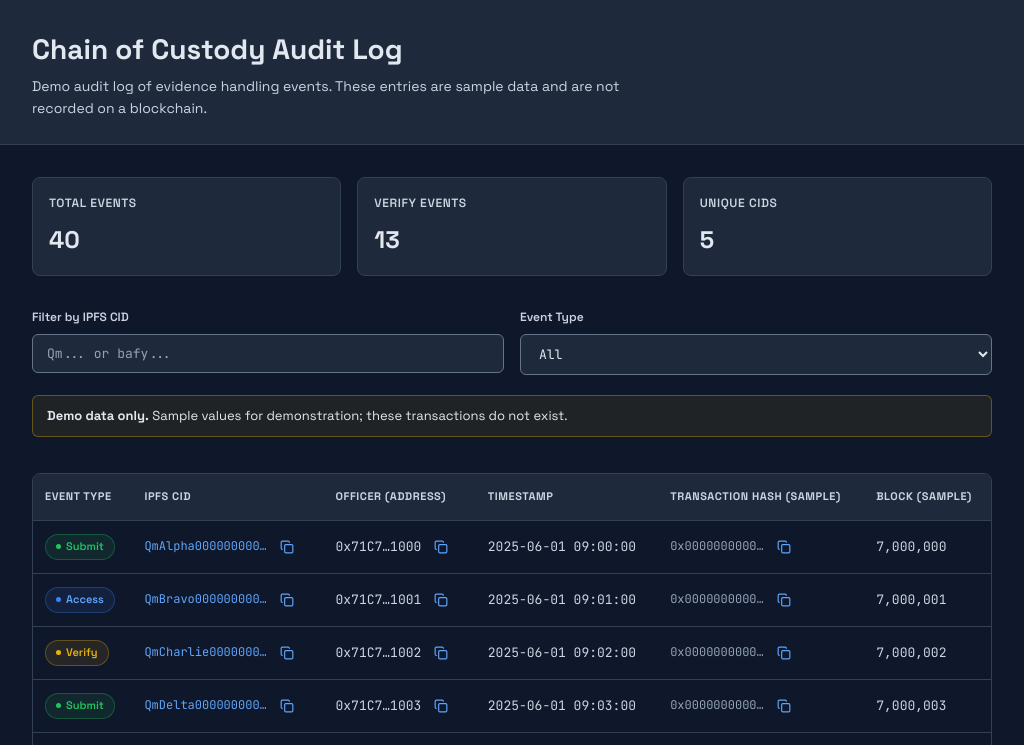
ChainOfCustody: copy buttons › copies the full CID and the full wallet address
The image size is (1024, 745).
What coordinates should you click on to do the following:
click the button named "Copy full CID for event LOG-002"
I would click on:
 (287, 600)
Its box is left=273, top=586, right=301, bottom=614.
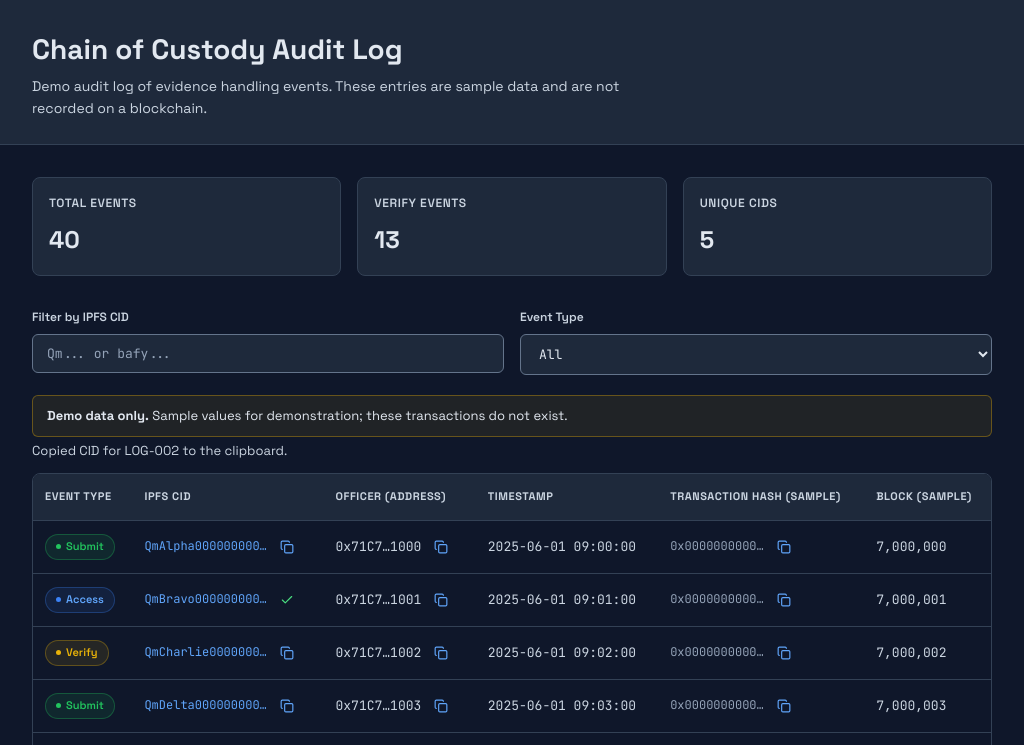
Expected: the message reads "Copied CID for LOG-002 to the clipboard.", left=32, top=442, right=287, bottom=459
What coordinates should you click on to do the following:
click the button named "Copy full wallet address for event LOG-003"
I would click on:
 (441, 653)
Its box is left=427, top=639, right=455, bottom=667.
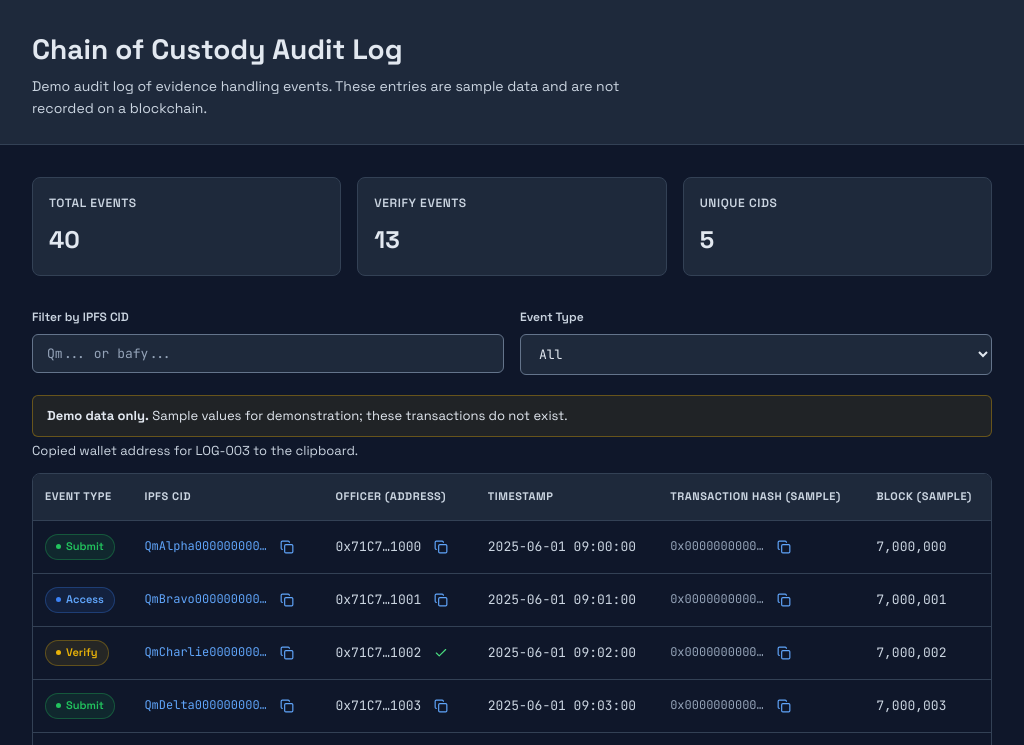
Expected: the message reads "Copied wallet address for LOG-003 to the clipboard.", left=32, top=442, right=358, bottom=459
